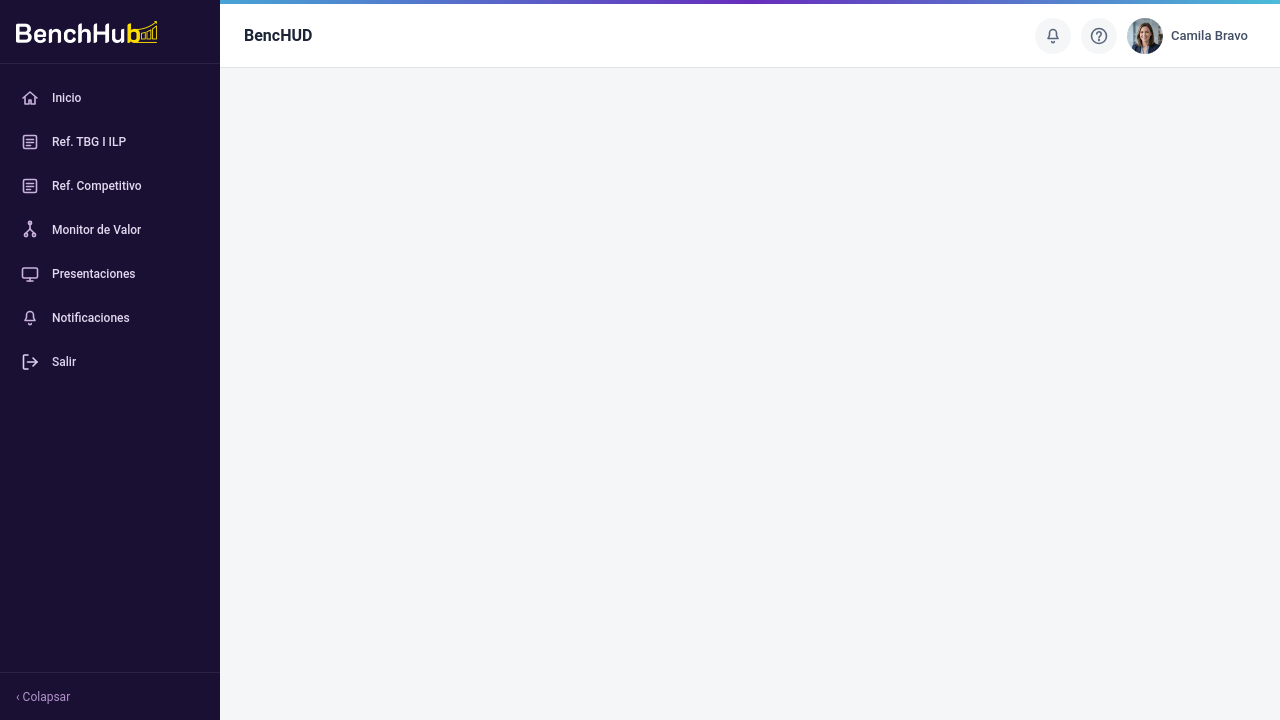
it: ShellLayout header (F0-2) › opens the OVL-12 help dialog from the header "?" and closes it with "Contactar soporte"
Click the button named "Ayuda y documentación" at [1099, 36], box [1081,18,1117,54]
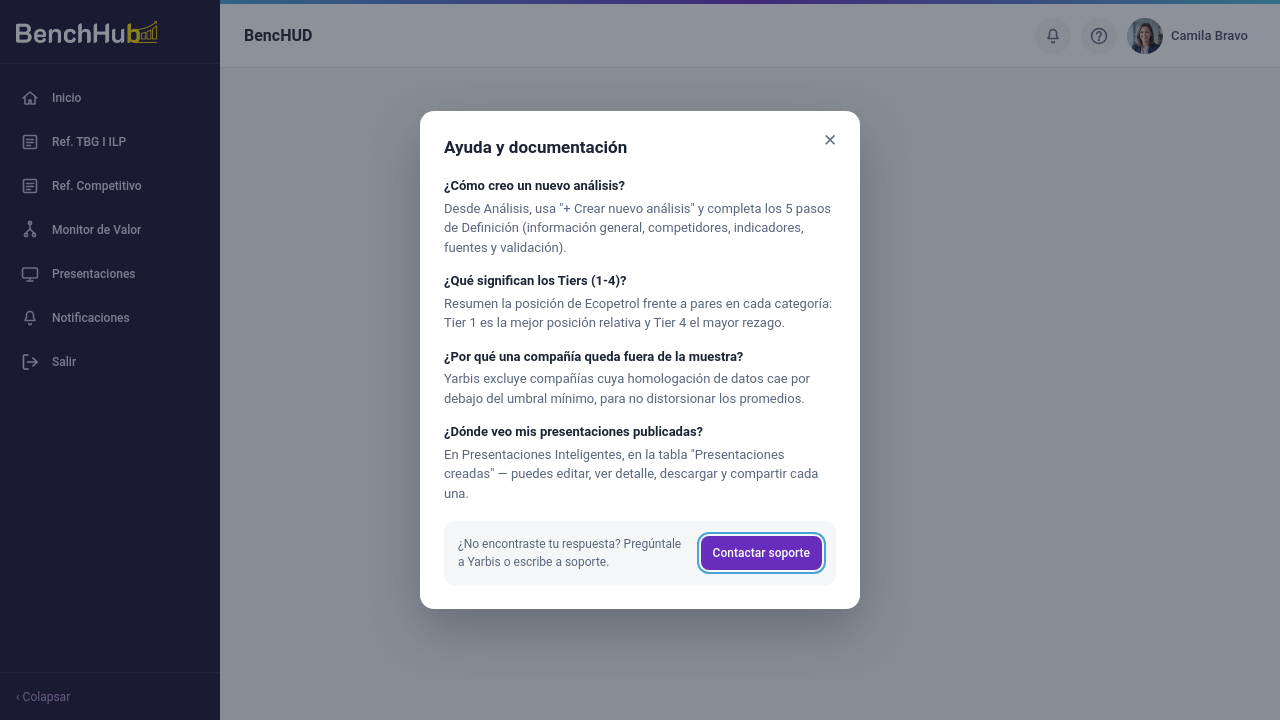
Expected: the dialog "Ayuda y documentación" shows "¿Cómo creo un nuevo análisis?", [444,178,625,193]
Expected: the dialog "Ayuda y documentación" shows "los 5 pasos de Definición", [444,201,831,255]
Click the button "Contactar soporte" at [761, 553], box [701,536,822,570]
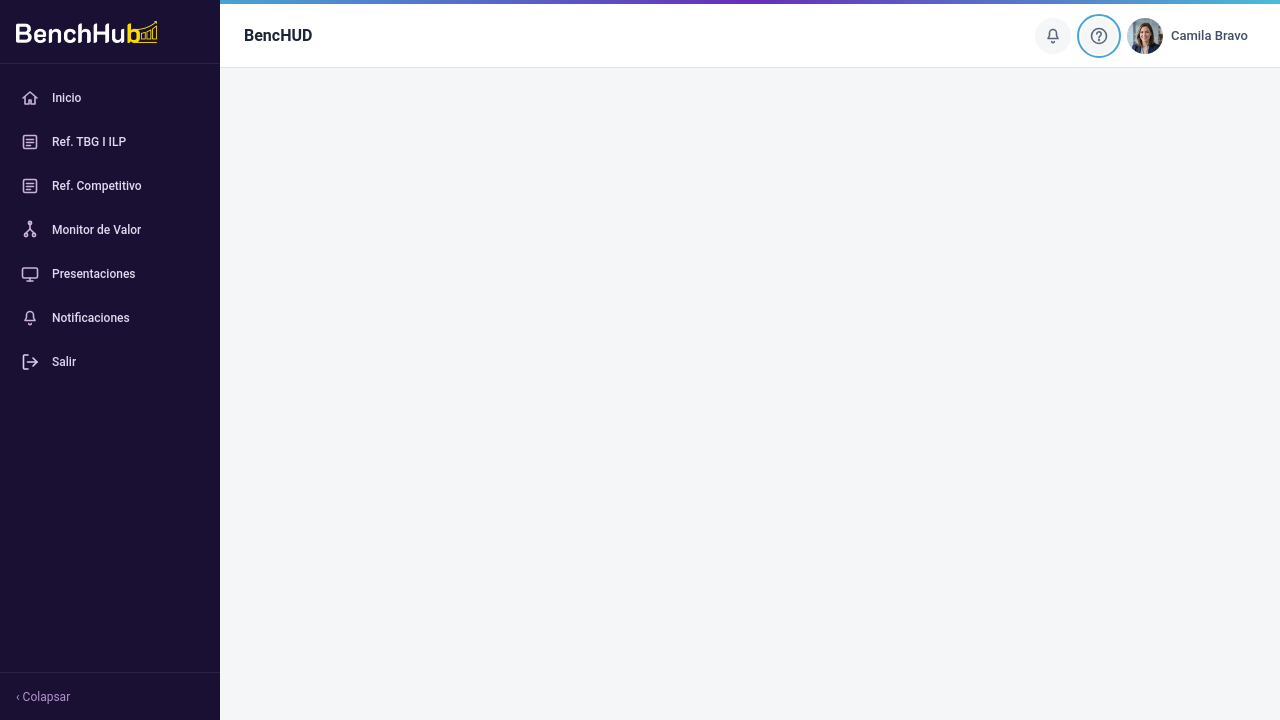
Expected: the dialog is gone
